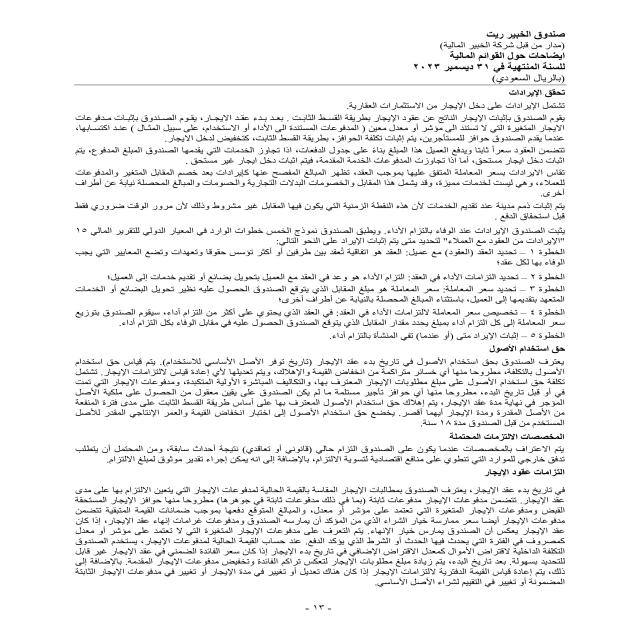notes: (446, 50, 576, 61)
text: (64, 99, 571, 589)
